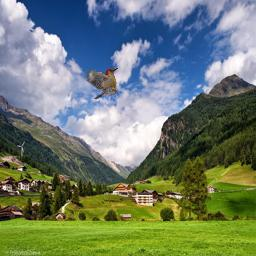Woodpecker: (82, 67, 118, 99)
